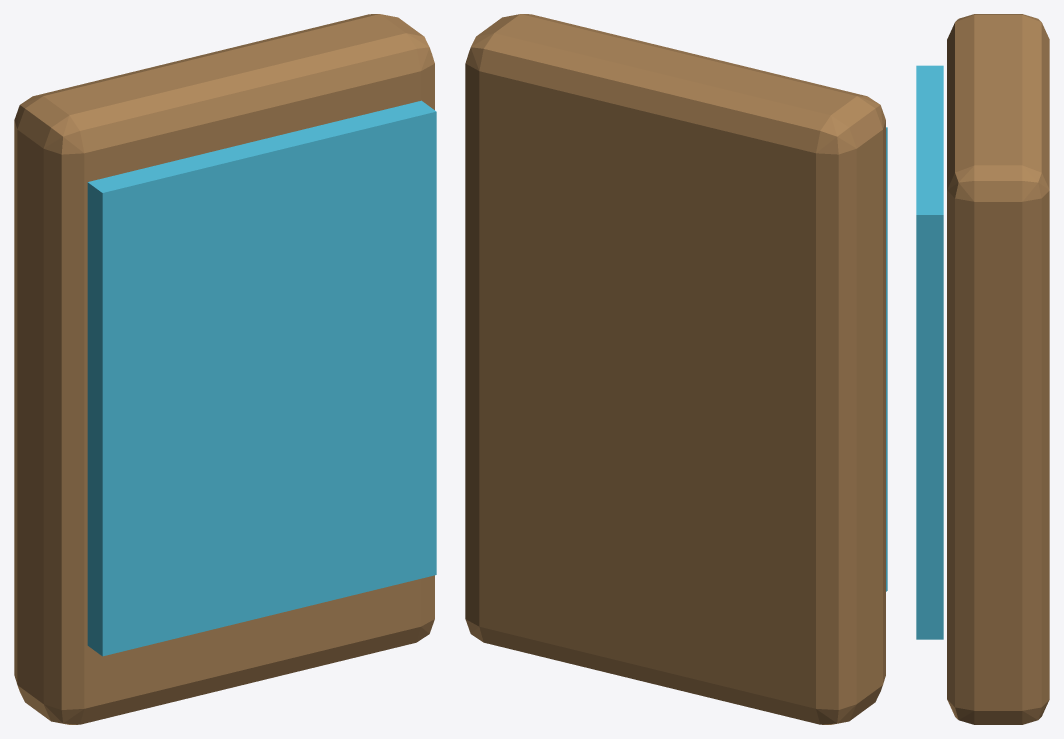
Rendered from CC_S16_P2_Product_MemoryCore_Box_LOD0.fbx.
The picture shows the model from 3 angles, left to right: view 1: azimuth 30°, elevation 25°; view 2: azimuth 150°, elevation 25°; view 3: azimuth 270°, elevation 25°; orthographic projection. The views are drawn at different scales.
Parts seen in each view (by area): view 1: CC_S16_P2_Product_MemoryCore_Box_LOD0_FrontPanel, CC_S16_P2_Product_MemoryCore_Box_LOD0_Box; view 2: CC_S16_P2_Product_MemoryCore_Box_LOD0_Box, CC_S16_P2_Product_MemoryCore_Box_LOD0_FrontPanel; view 3: CC_S16_P2_Product_MemoryCore_Box_LOD0_Box, CC_S16_P2_Product_MemoryCore_Box_LOD0_FrontPanel.
Part boxes in pixels (<box>): CC_S16_P2_Product_MemoryCore_Box_LOD0_FrontPanel: <box>87,100,436,656</box>; CC_S16_P2_Product_MemoryCore_Box_LOD0_Box: <box>14,14,434,724</box>; CC_S16_P2_Product_MemoryCore_Box_LOD0_Box: <box>465,14,885,724</box>; CC_S16_P2_Product_MemoryCore_Box_LOD0_FrontPanel: <box>886,127,887,591</box>; CC_S16_P2_Product_MemoryCore_Box_LOD0_Box: <box>947,14,1049,724</box>; CC_S16_P2_Product_MemoryCore_Box_LOD0_FrontPanel: <box>916,65,943,639</box>.
Size of what is drawn, in the model's own units: 0.12 by 0.18 by 0.039.
